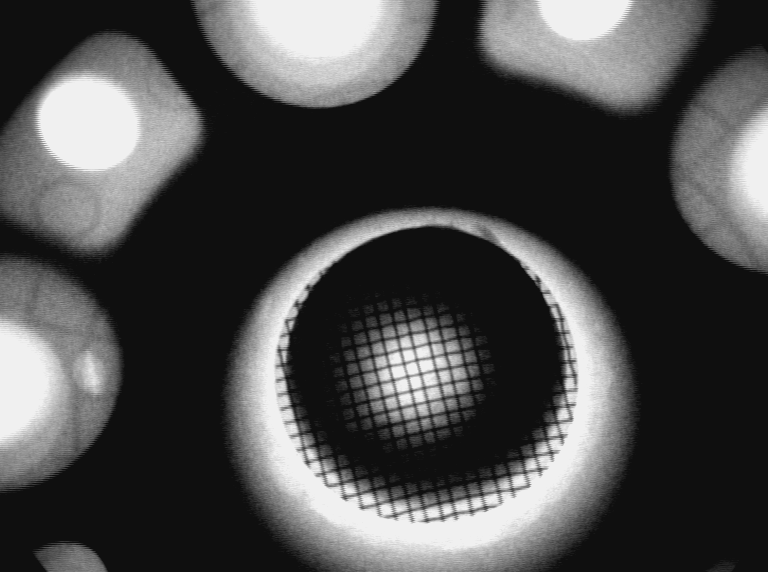defect: (71, 349, 117, 403)
